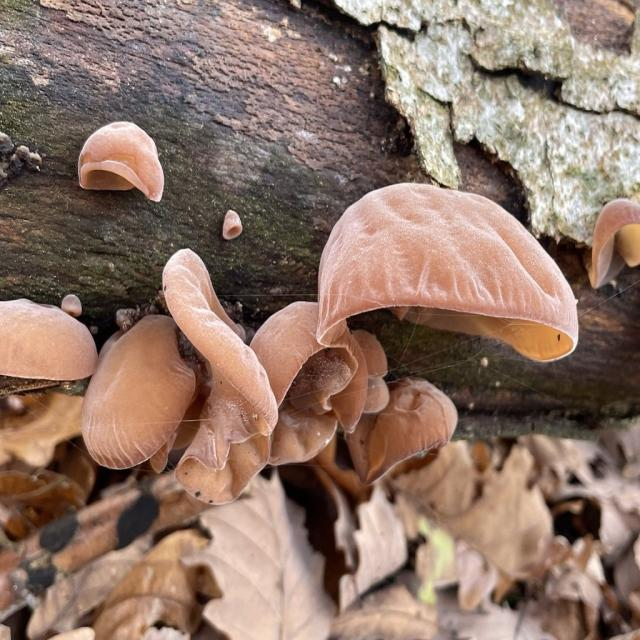Fase Muda: (77, 116, 167, 204), (334, 328, 392, 427), (585, 193, 640, 290)
Matang: (316, 175, 581, 376), (161, 242, 281, 509), (247, 296, 372, 471), (79, 306, 188, 478), (341, 380, 461, 479), (0, 292, 103, 383)
primordia: (221, 207, 245, 249), (61, 291, 85, 316)
